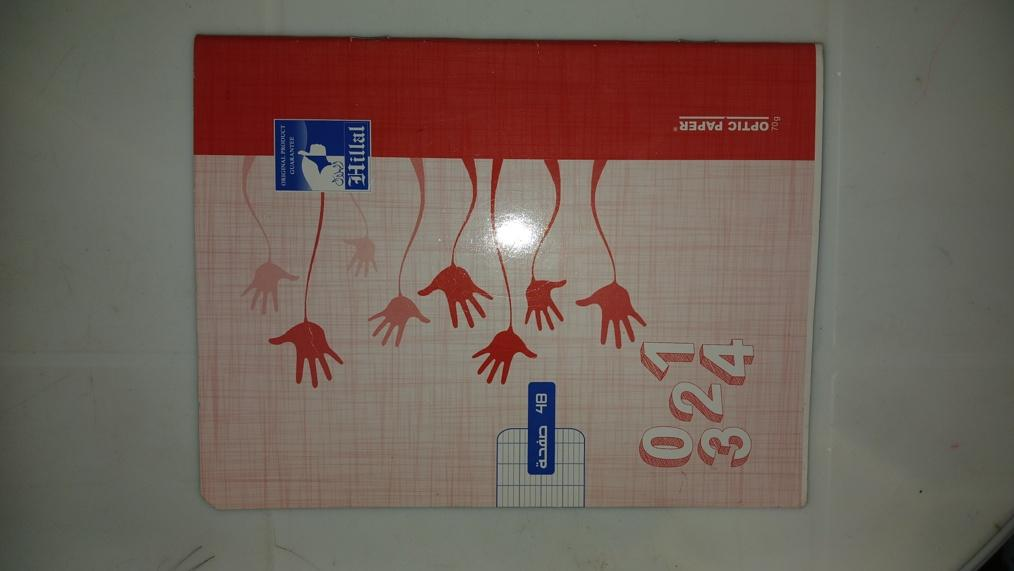notebook: (199, 41, 821, 510)
